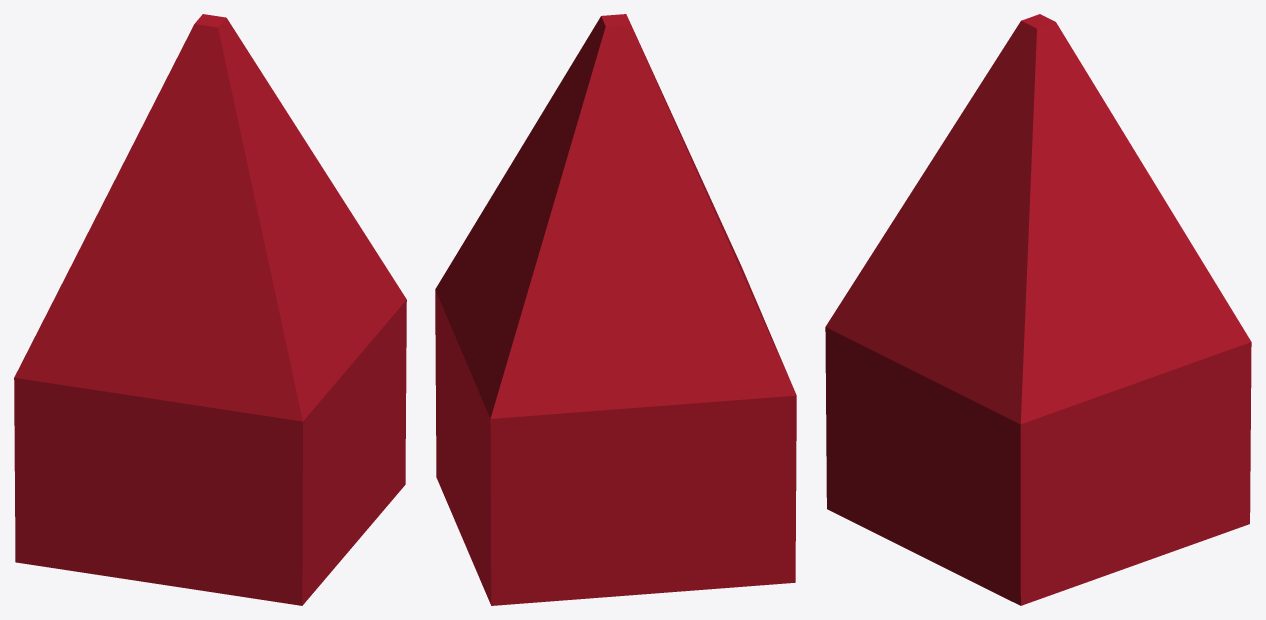
Rendered from tree-dead-leaves-029.glb.
3 views of the same model, side by side, from view 1: azimuth 30°, elevation 25°; view 2: azimuth 150°, elevation 25°; view 3: azimuth 270°, elevation 25° (orthographic). The views are drawn at different scales.
Parts seen in each view (by area): view 1: Plane.089_474; view 2: Plane.089_474; view 3: Plane.089_474.
Part boxes in pixels (left/top/right/bottom): Plane.089_474: left=14, top=14, right=406, bottom=605; Plane.089_474: left=435, top=14, right=796, bottom=605; Plane.089_474: left=825, top=14, right=1251, bottom=605.
Size of the model in its own units: 0.6307 by 0.8087 by 0.6307.
